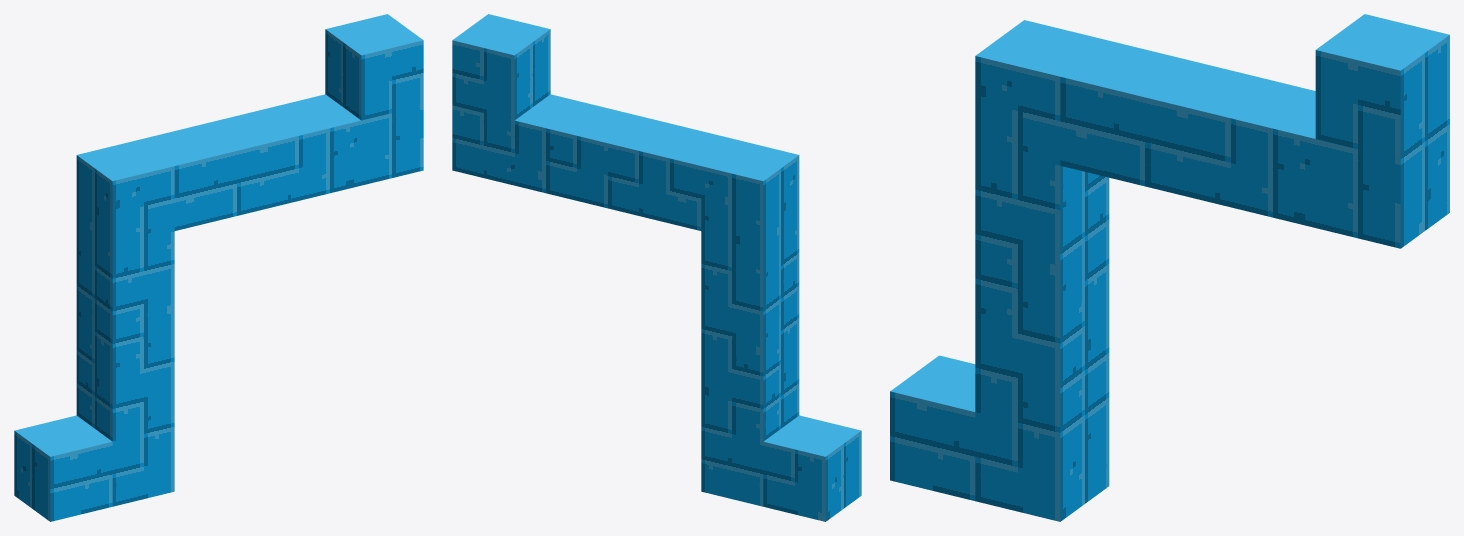
The model's file is stargate_pyramid_aao.fezao.glb.
3 renders of one model, left to right at view 1: azimuth 30°, elevation 25°; view 2: azimuth 150°, elevation 25°; view 3: azimuth 330°, elevation 25°, orthographic. The views are drawn at different scales.
Parts seen in each view (by area): view 1: STARGATE_PYRAMID_AAO; view 2: STARGATE_PYRAMID_AAO; view 3: STARGATE_PYRAMID_AAO.
Boxes of the visible parts, x1,y1,x2,y2 form: STARGATE_PYRAMID_AAO: (14, 14, 423, 521); STARGATE_PYRAMID_AAO: (452, 14, 861, 521); STARGATE_PYRAMID_AAO: (890, 14, 1449, 521).
Size of the model in its own units: 6 by 6 by 1.
1 material, 1 textured.
